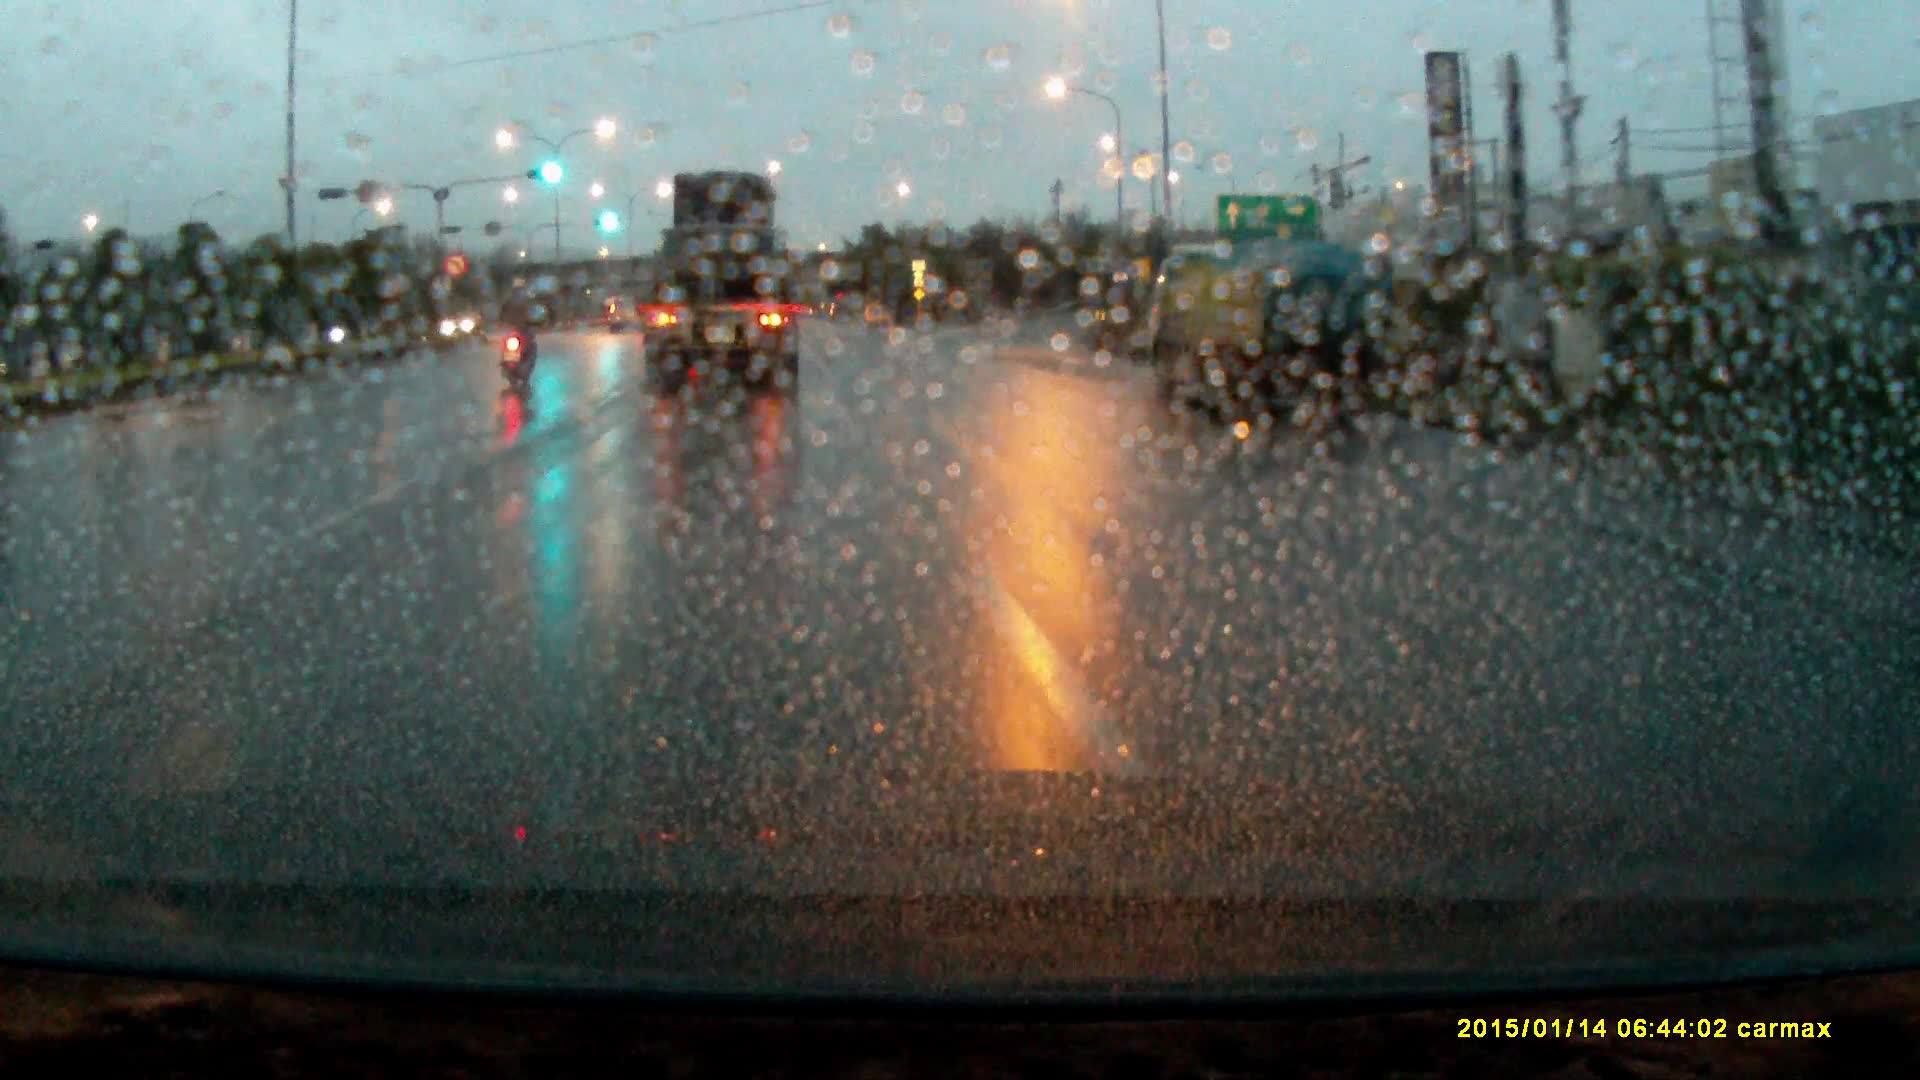rider: (496, 272, 546, 389)
vehicle: (1147, 238, 1411, 432), (642, 167, 804, 397), (608, 295, 646, 332)
